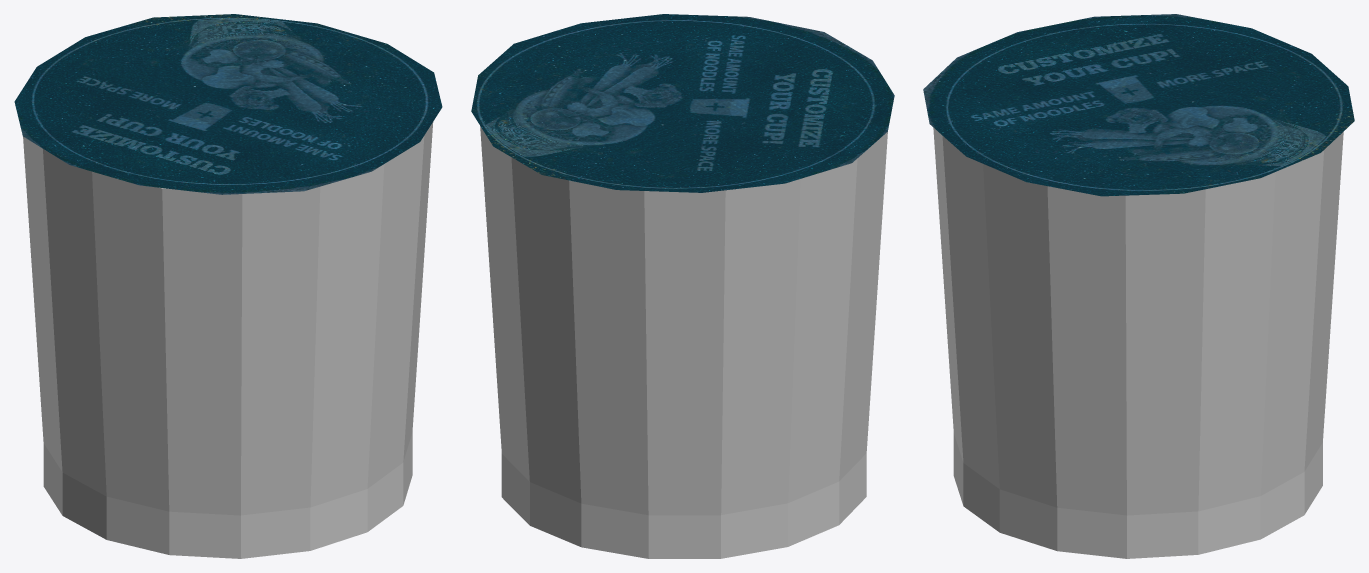
File: cup_noodle.fbx
The picture shows the model from 3 angles, left to right: view 1: azimuth 30°, elevation 25°; view 2: azimuth 150°, elevation 25°; view 3: azimuth 270°, elevation 25°; orthographic projection.
Visible parts, largest first — view 1: Noodle Cup, Cup_top; view 2: Noodle Cup, Cup_top; view 3: Noodle Cup, Cup_top.
Part boxes in pixels (x1,y1,x2,y2): Noodle Cup: (23, 122, 433, 558); Cup_top: (14, 14, 442, 194); Noodle Cup: (480, 126, 887, 558); Cup_top: (471, 14, 894, 192); Noodle Cup: (933, 127, 1343, 558); Cup_top: (923, 14, 1354, 196).
Bounding box in the file's own units: 208 × 200 × 208.
Materials: 2 (1 with a texture image).
